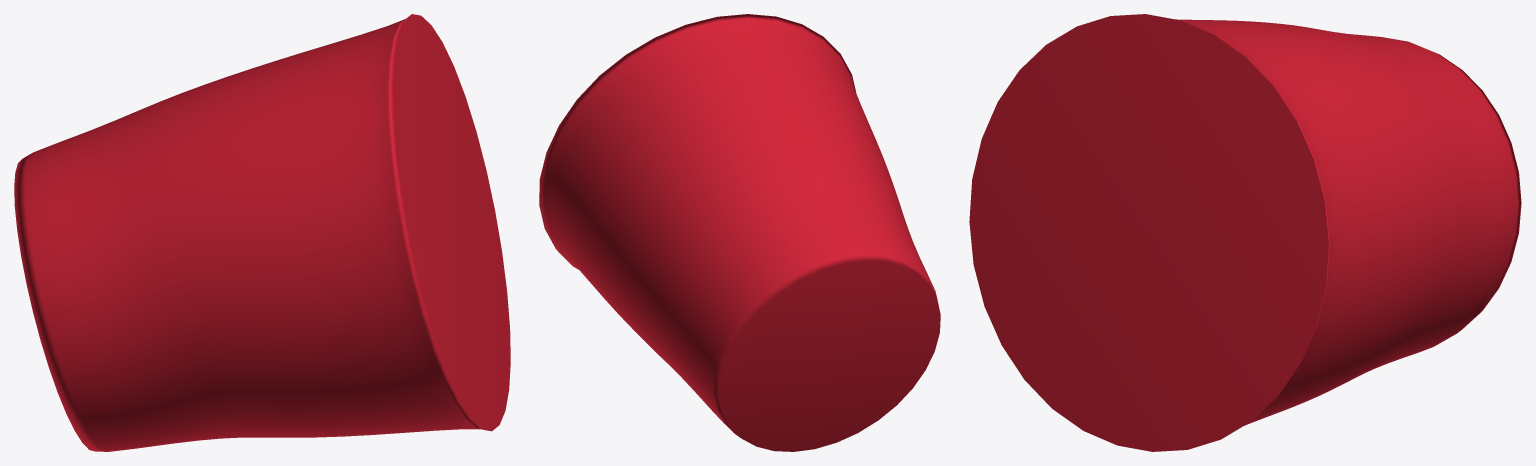
The model's file is UreterJunctionVisual.obj.
3 renders of one model, left to right at view 1: azimuth 30°, elevation 25°; view 2: azimuth 150°, elevation 25°; view 3: azimuth 270°, elevation 25°, orthographic. The views are drawn at different scales.
Visible parts, largest first — view 1: UreterJunctionVisual; view 2: UreterJunctionVisual; view 3: UreterJunctionVisual.
Boxes of the visible parts, box(x1,y1,x2,y2) form: UreterJunctionVisual: box(14, 14, 510, 451); UreterJunctionVisual: box(539, 14, 940, 451); UreterJunctionVisual: box(969, 14, 1521, 451).
Size of the model in its own units: 1.59 by 1.34 by 1.55.
